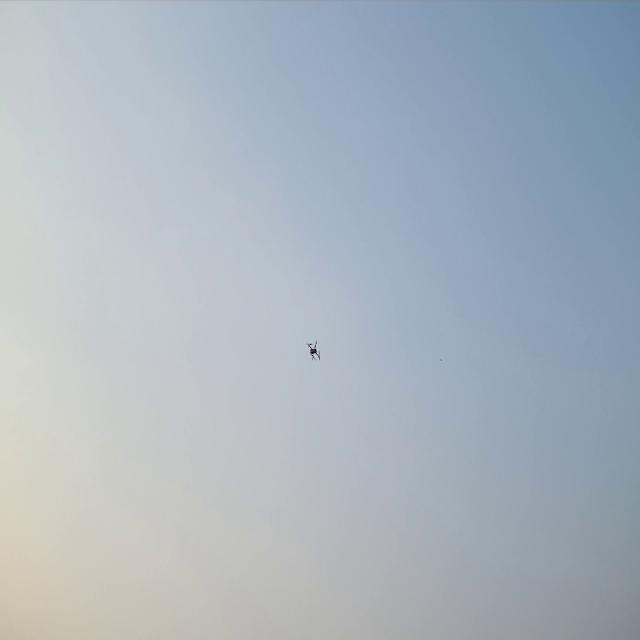UAV: (304, 339, 324, 363)
